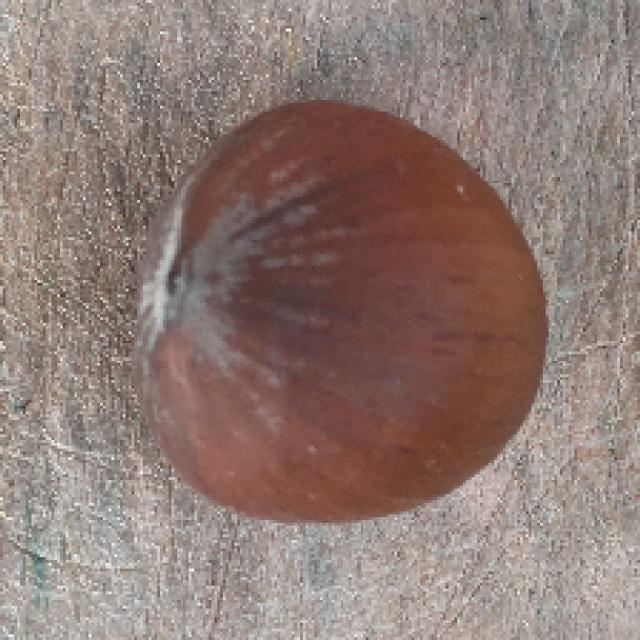damagedHazelnut: (129, 92, 553, 531)
